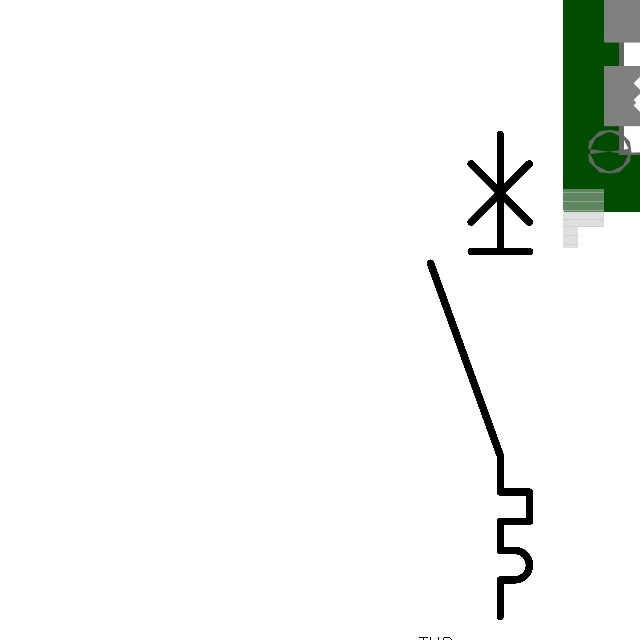interruptor_termomagnetico: (418, 122, 542, 629)
